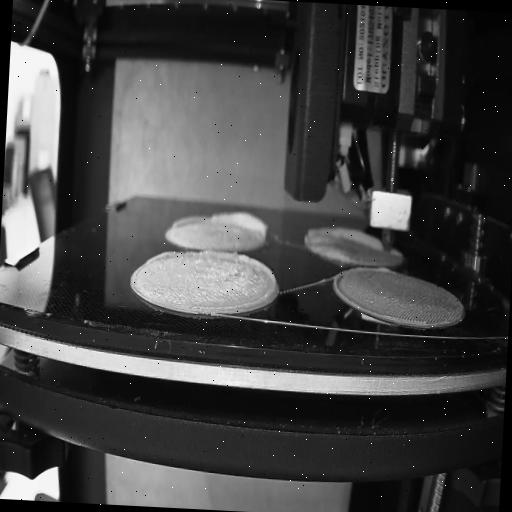over_extrusion: (196, 248, 278, 316), (300, 220, 386, 256), (211, 202, 271, 240), (144, 246, 188, 267), (171, 211, 206, 233), (375, 264, 393, 274), (392, 248, 402, 260)
